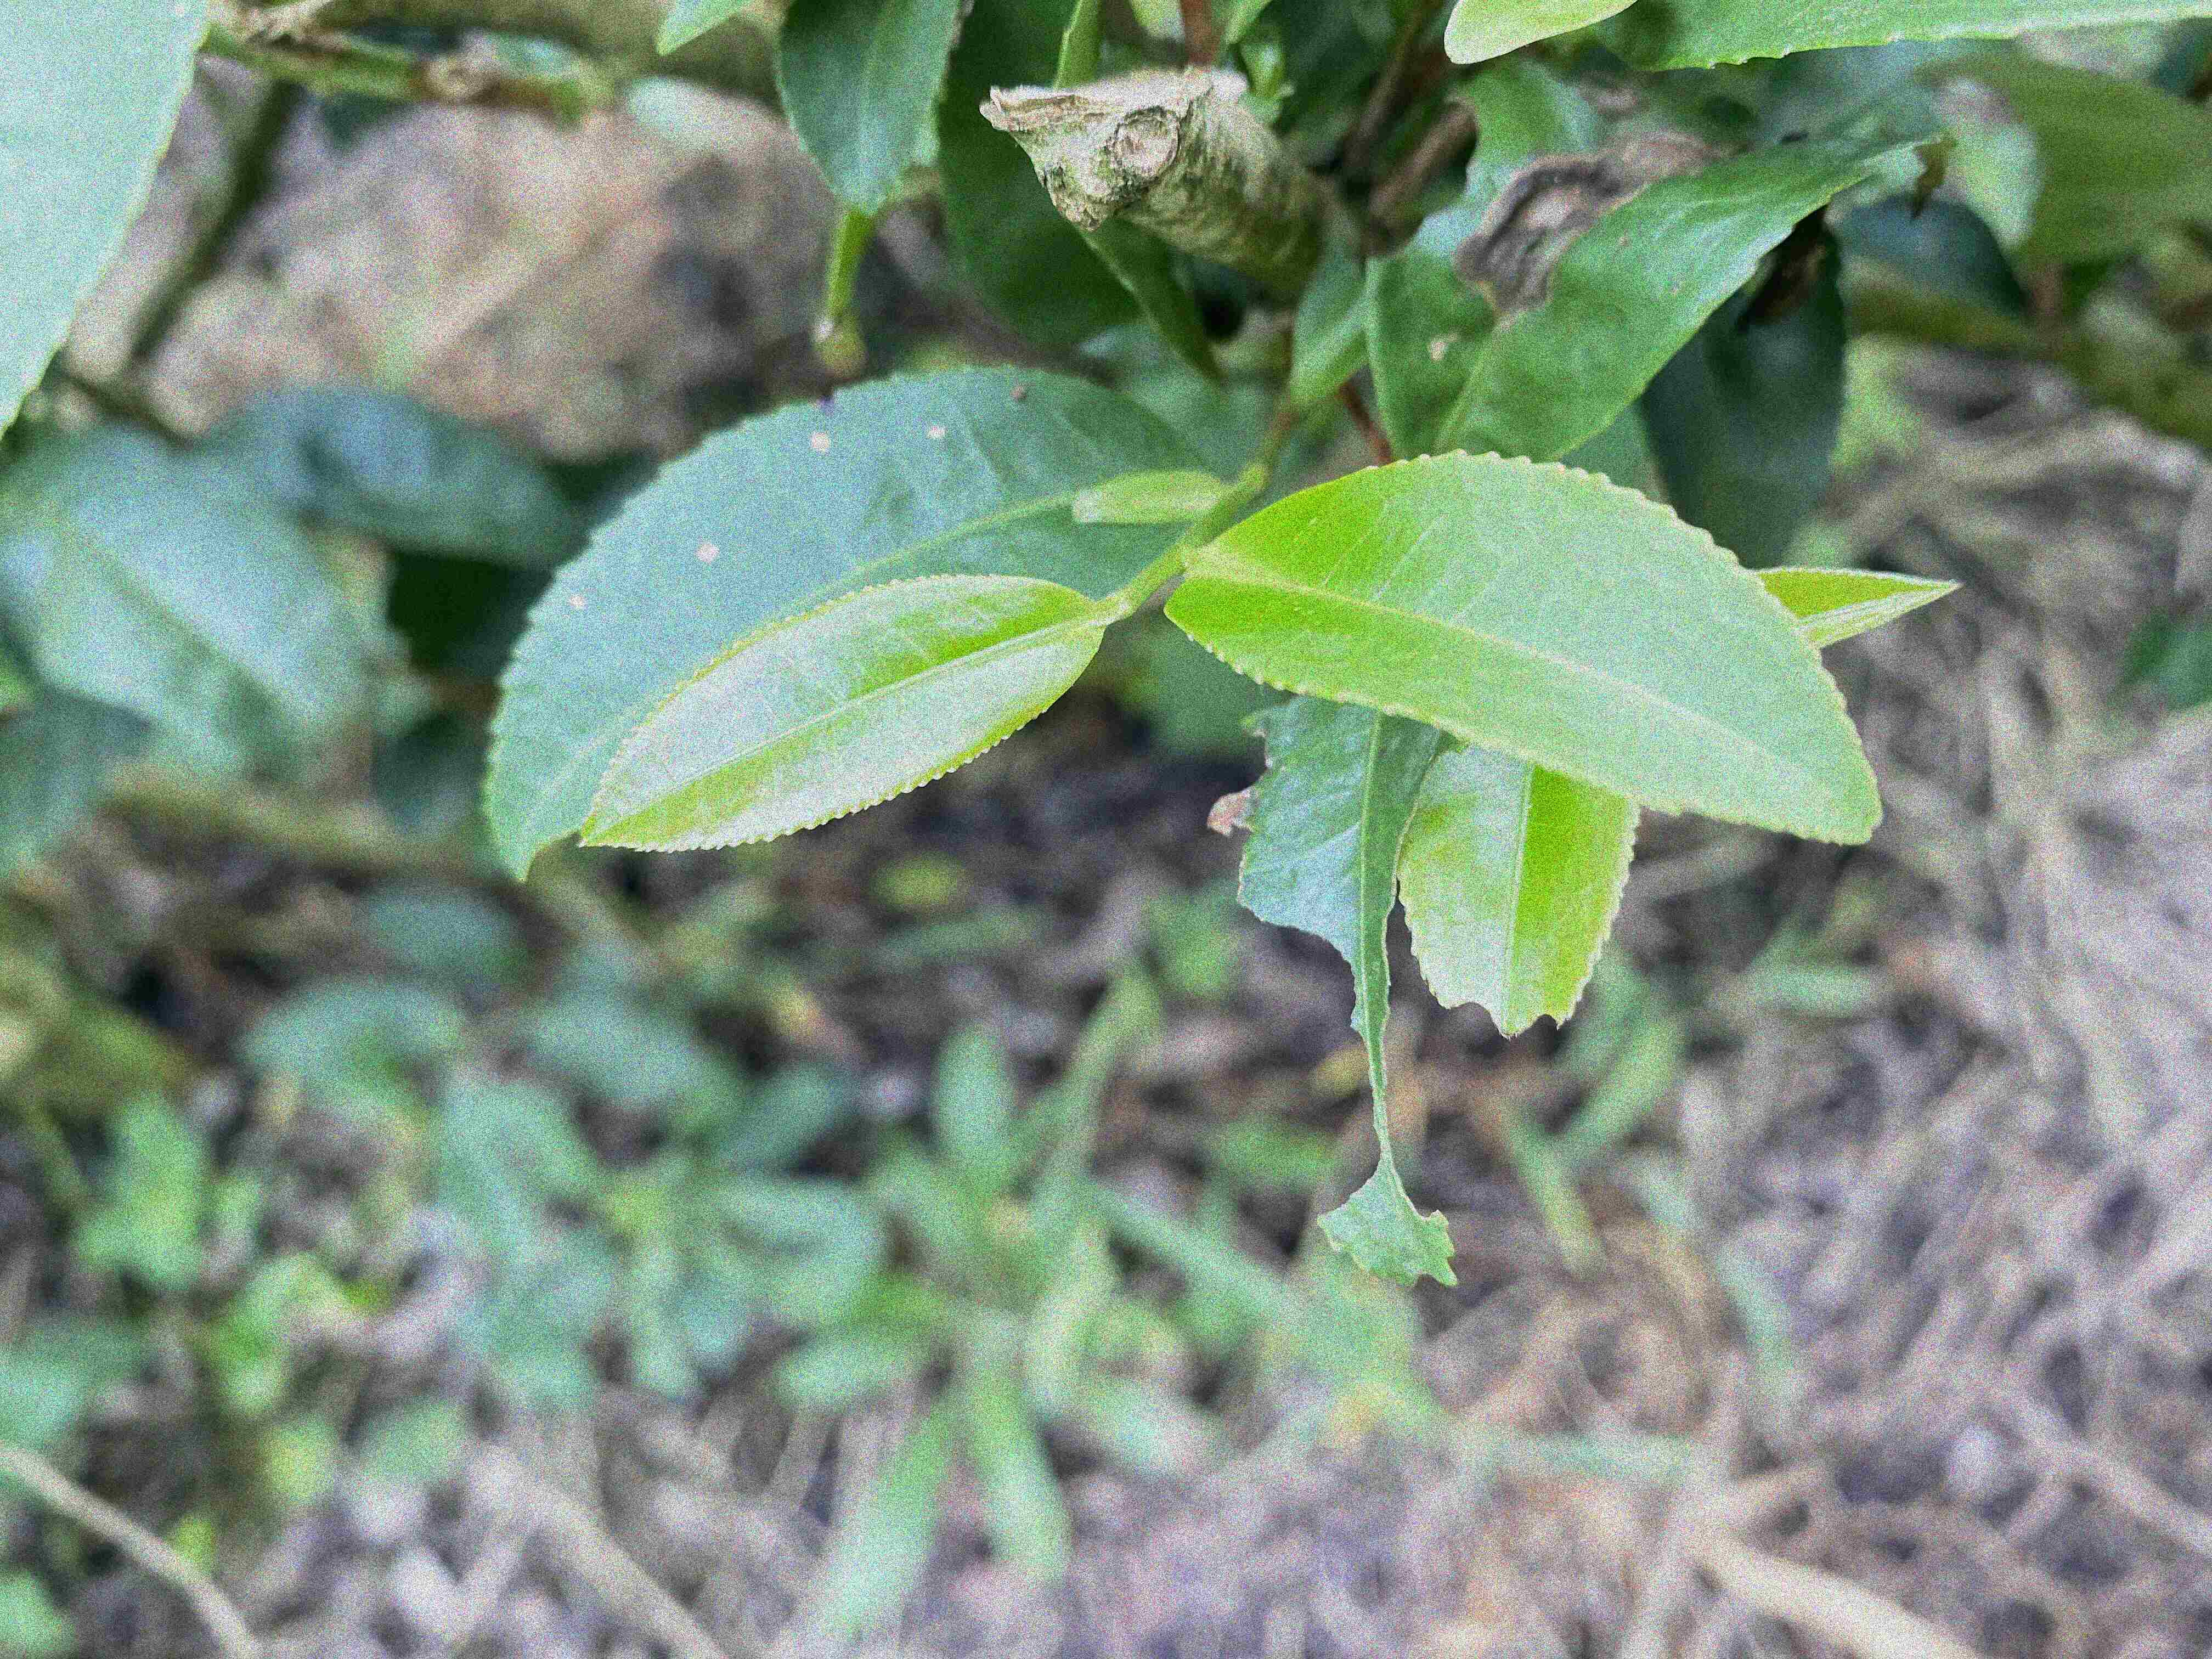chihuo_high: (1237, 697, 1463, 1290), (1397, 746, 1644, 1044)
healthy: (1160, 450, 1888, 843), (575, 573, 1103, 854)
tanju_high: (1362, 54, 1944, 464)
tanju_low: (479, 362, 1230, 884)
